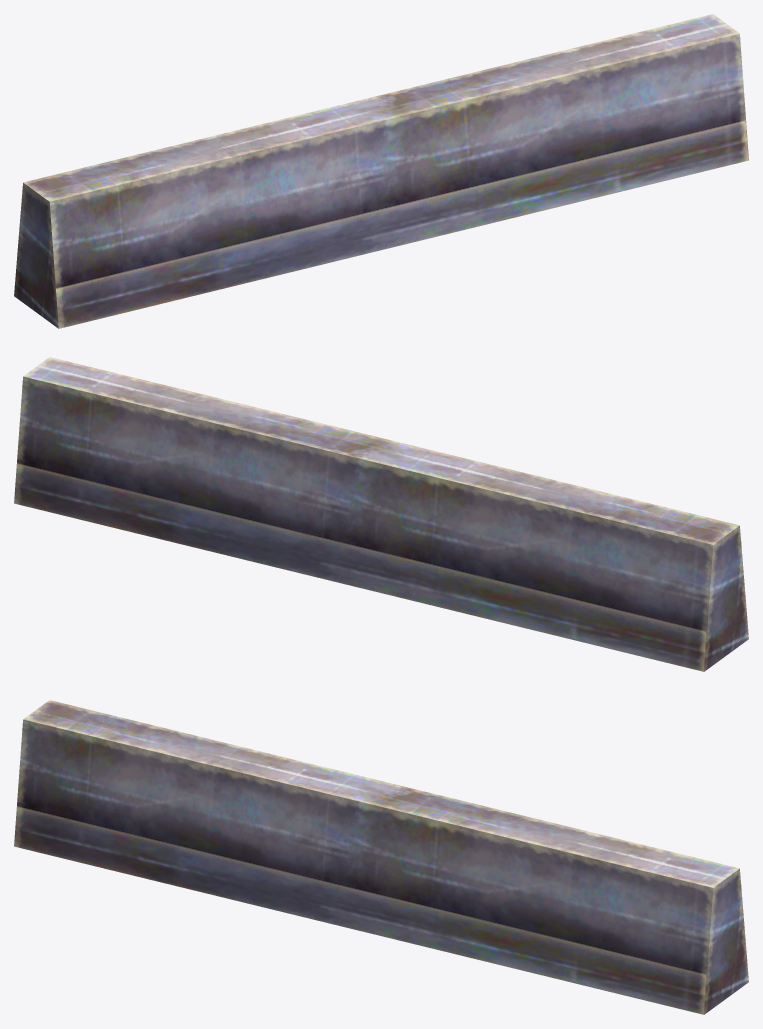
File: track_la_env_barrier_01.fbx
3 renders of one model, top to bottom at view 1: azimuth 30°, elevation 25°; view 2: azimuth 150°, elevation 25°; view 3: azimuth 330°, elevation 25°, orthographic.
Visible parts, largest first — view 1: track_la_env_barrier_01; view 2: track_la_env_barrier_01; view 3: track_la_env_barrier_01.
Part boxes in pixels (x1,y1,x2,y2): track_la_env_barrier_01: (14,14,748,328); track_la_env_barrier_01: (14,357,748,671); track_la_env_barrier_01: (14,700,748,1014).
Bounding box in the file's own units: 12 × 2 × 1.35.
Materials: 1 (1 with a texture image).
